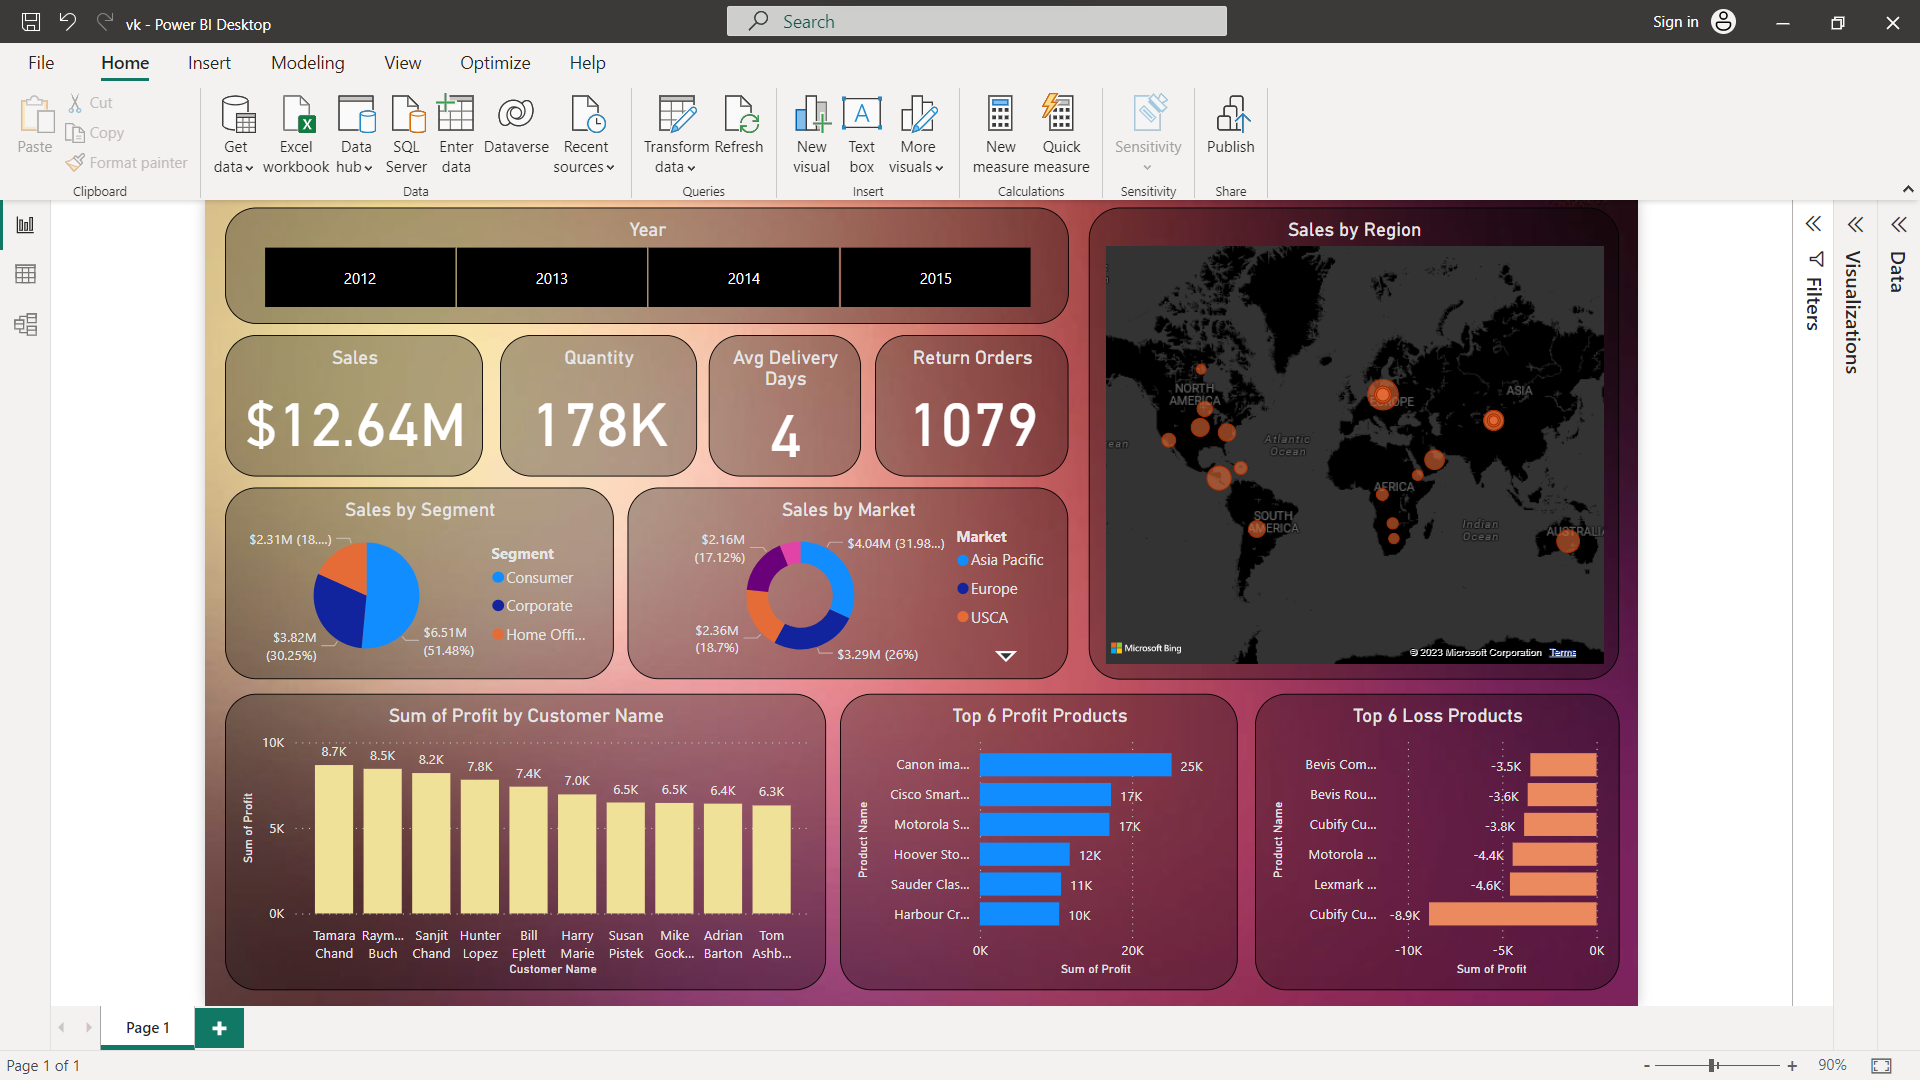

What the dashboard file says about the page in this screenshot:
{"tool":"powerbi","page":{"name":"Page 1","canvas":[1280,720],"ordinal":0},"visuals":[{"type":"card","title":"Sales","fields":{"Values":["Orders.Sales"]},"box":[17.8,120.8,230.5,126.2],"z":0},{"type":"card","title":"Quantity","fields":{"Values":["Orders.Quantity"]},"box":[263.5,120.8,175.6,126.2],"z":1000},{"type":"card","title":"Avg Delivery Days","fields":{"Values":["Orders.Delivery Days"]},"box":[450.1,120.8,135.8,126.2],"z":2000},{"type":"slicer","title":"Year","fields":{"Values":["Orders.Year"]},"box":[17.8,6.9,753.3,104.3],"z":3000},{"type":"card","title":"Return Orders","fields":{"Values":["Returns.Return Orders"]},"box":[598.3,120.8,172.9,126.2],"z":4000},{"type":"map","title":"Sales by Region","fields":{"Category":["Orders.Region"],"Size":["Orders.Sales"]},"box":[789,6.9,473.4,421.3],"z":5000},{"type":"clusteredBarChart","title":"Top 6 Profit Products","fields":{"Category":["Orders.Product Name"],"Y":["Orders.Profit"]},"box":[566.7,440.5,355.4,264.8],"z":6000},{"type":"clusteredBarChart","title":"Top 6 Loss Products","fields":{"Category":["Orders.Product Name"],"Y":["Orders.Profit"]},"box":[937.2,440.5,325.2,264.8],"z":7000},{"type":"pieChart","title":"Sales by Segment","fields":{"Category":["Orders.Segment"],"Y":["Orders.Sales"]},"box":[17.8,256.6,347.2,171.5],"z":8000},{"type":"donutChart","title":"Sales by Market","fields":{"Category":["Orders.Market"],"Y":["Orders.Sales"]},"box":[377.4,256.6,393.8,171.5],"z":9000},{"type":"columnChart","fields":{"Category":["Orders.Customer Name"],"Y":["Orders.Profit"]},"box":[17.8,440.5,536.5,264.8],"z":10000}]}

Visuals, with their boxes on the page's 1280x720 design canvas (x1, y1, x2, y2). These are canvas units, not pixel positions in the 1920x1080 screenshot, which may show the page scaled, cropped or inside an application window:
"Sales" card: <box>18,121,248,247</box>
"Quantity" card: <box>264,121,439,247</box>
"Avg Delivery Days" card: <box>450,121,586,247</box>
"Year" slicer: <box>18,7,771,111</box>
"Return Orders" card: <box>598,121,771,247</box>
"Sales by Region" map: <box>789,7,1262,428</box>
"Top 6 Profit Products" clusteredBarChart: <box>567,440,922,705</box>
"Top 6 Loss Products" clusteredBarChart: <box>937,440,1262,705</box>
"Sales by Segment" pieChart: <box>18,257,365,428</box>
"Sales by Market" donutChart: <box>377,257,771,428</box>
columnChart - Orders.Customer Name x Orders.Profit: <box>18,440,554,705</box>
